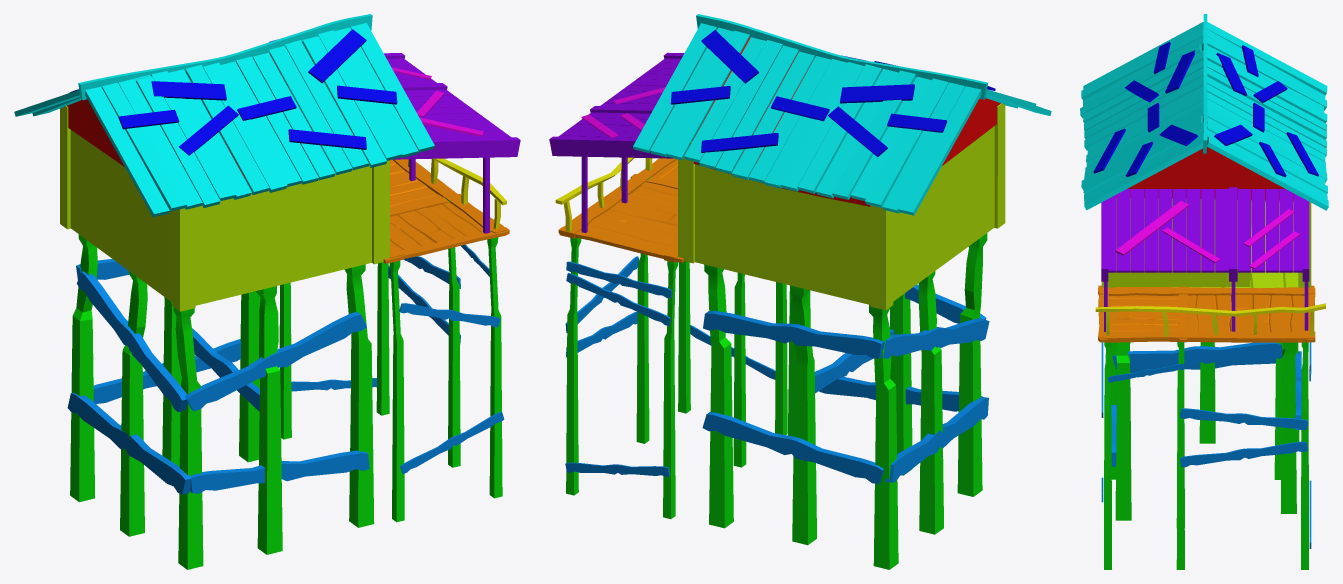
The model's file is nana_exterior.fbx.
3 views of the same model, side by side, from view 1: azimuth 30°, elevation 25°; view 2: azimuth 150°, elevation 25°; view 3: azimuth 270°, elevation 25° (orthographic). The views are drawn at different scales.
Visible parts, largest first — view 1: stilts, roof, house, scaffolding, porch, roofslats, awning, ceiling, fence, awningslats; view 2: stilts, roof, house, scaffolding, porch, roofslats, awning, ceiling, fence, awningslats; view 3: roof, awning, stilts, porch, scaffolding, roofslats, house, ceiling, awningslats, fence.
Boxes of the visible parts, x1,y1,x2,y2 form: stilts: (70, 198, 502, 569); roof: (14, 14, 434, 216); house: (60, 106, 389, 311); scaffolding: (67, 244, 504, 494); porch: (383, 159, 509, 263); roofslats: (69, 29, 397, 155); awning: (384, 53, 520, 233); ceiling: (67, 54, 291, 177); fence: (408, 158, 506, 229); awningslats: (391, 67, 483, 136); stilts: (566, 176, 987, 569); roof: (633, 14, 1051, 215); house: (678, 103, 1005, 310); scaffolding: (565, 256, 989, 483); porch: (558, 158, 683, 262); roofslats: (670, 30, 995, 157); awning: (549, 52, 684, 233); ceiling: (693, 37, 1000, 206); fence: (555, 157, 652, 231); awningslats: (581, 87, 665, 137); roof: (1080, 14, 1328, 210); awning: (1101, 187, 1309, 331); stilts: (1104, 342, 1308, 569); porch: (1098, 285, 1315, 342); scaffolding: (1101, 342, 1311, 548); roofslats: (1093, 42, 1318, 177); house: (1101, 198, 1311, 288); ceiling: (1116, 147, 1293, 200); awningslats: (1115, 201, 1300, 269); fence: (1095, 303, 1325, 336).
Bounding box in the file's own units: 175 × 202 × 113.
